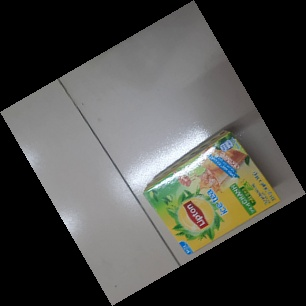LipTon: (143, 128, 280, 259)
